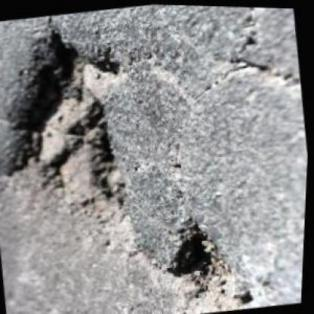Hueco: (0, 15, 152, 247)
